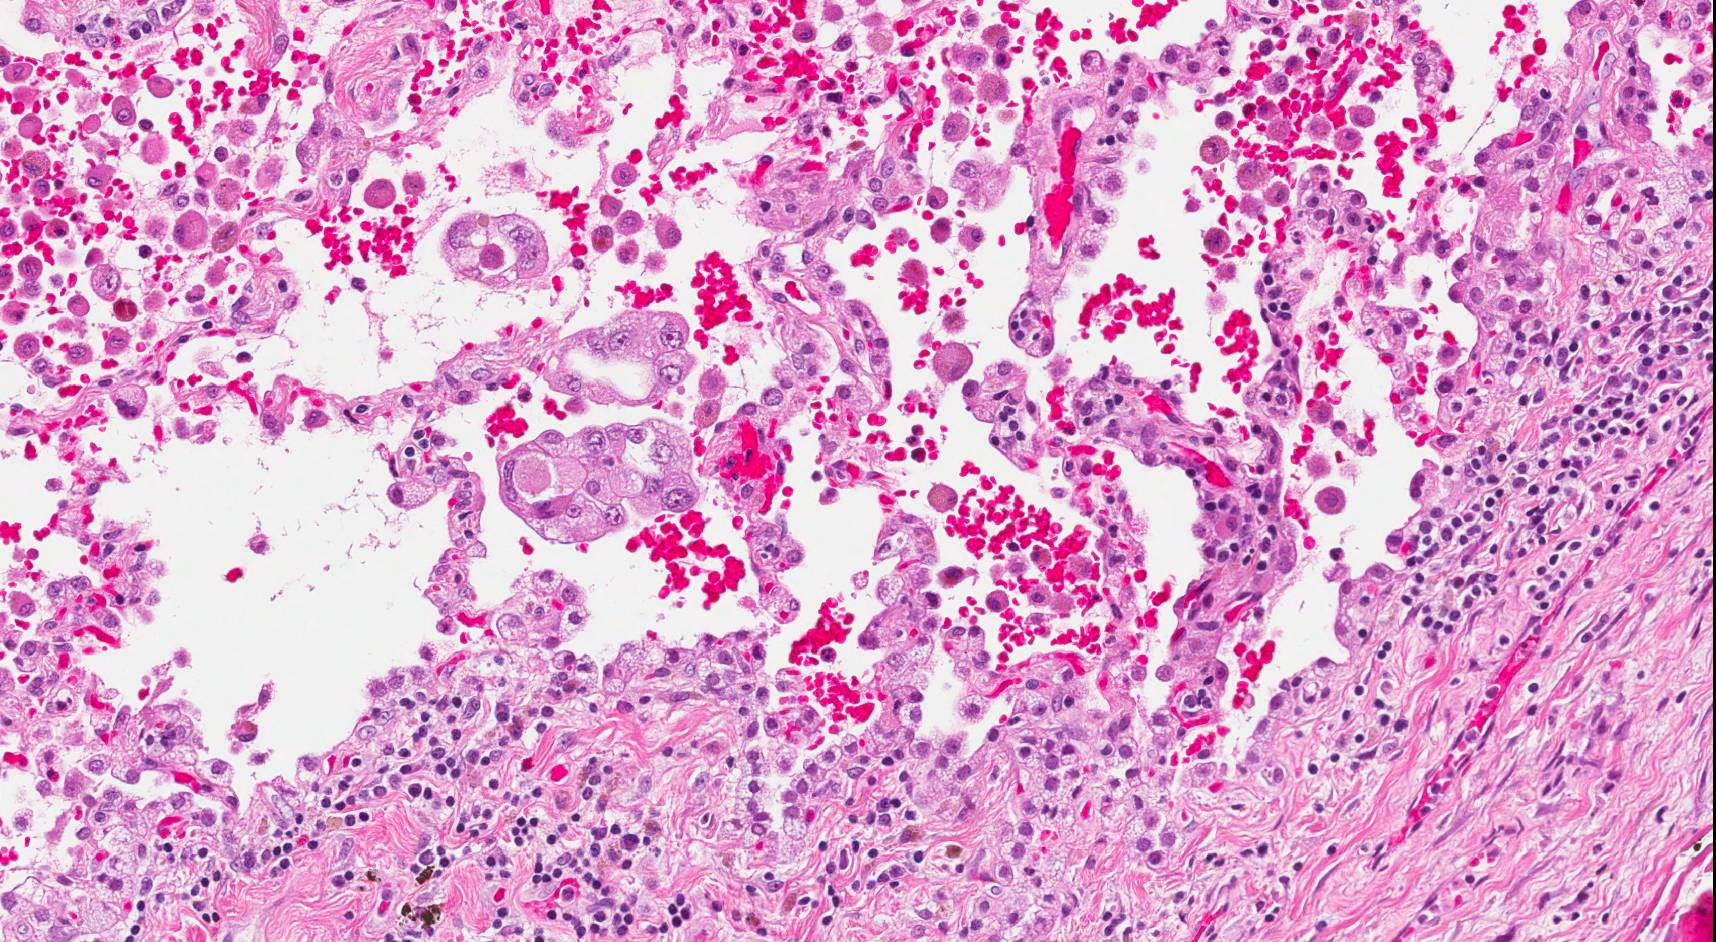stas: (498, 420, 700, 544), (534, 305, 696, 406), (441, 209, 553, 290)
